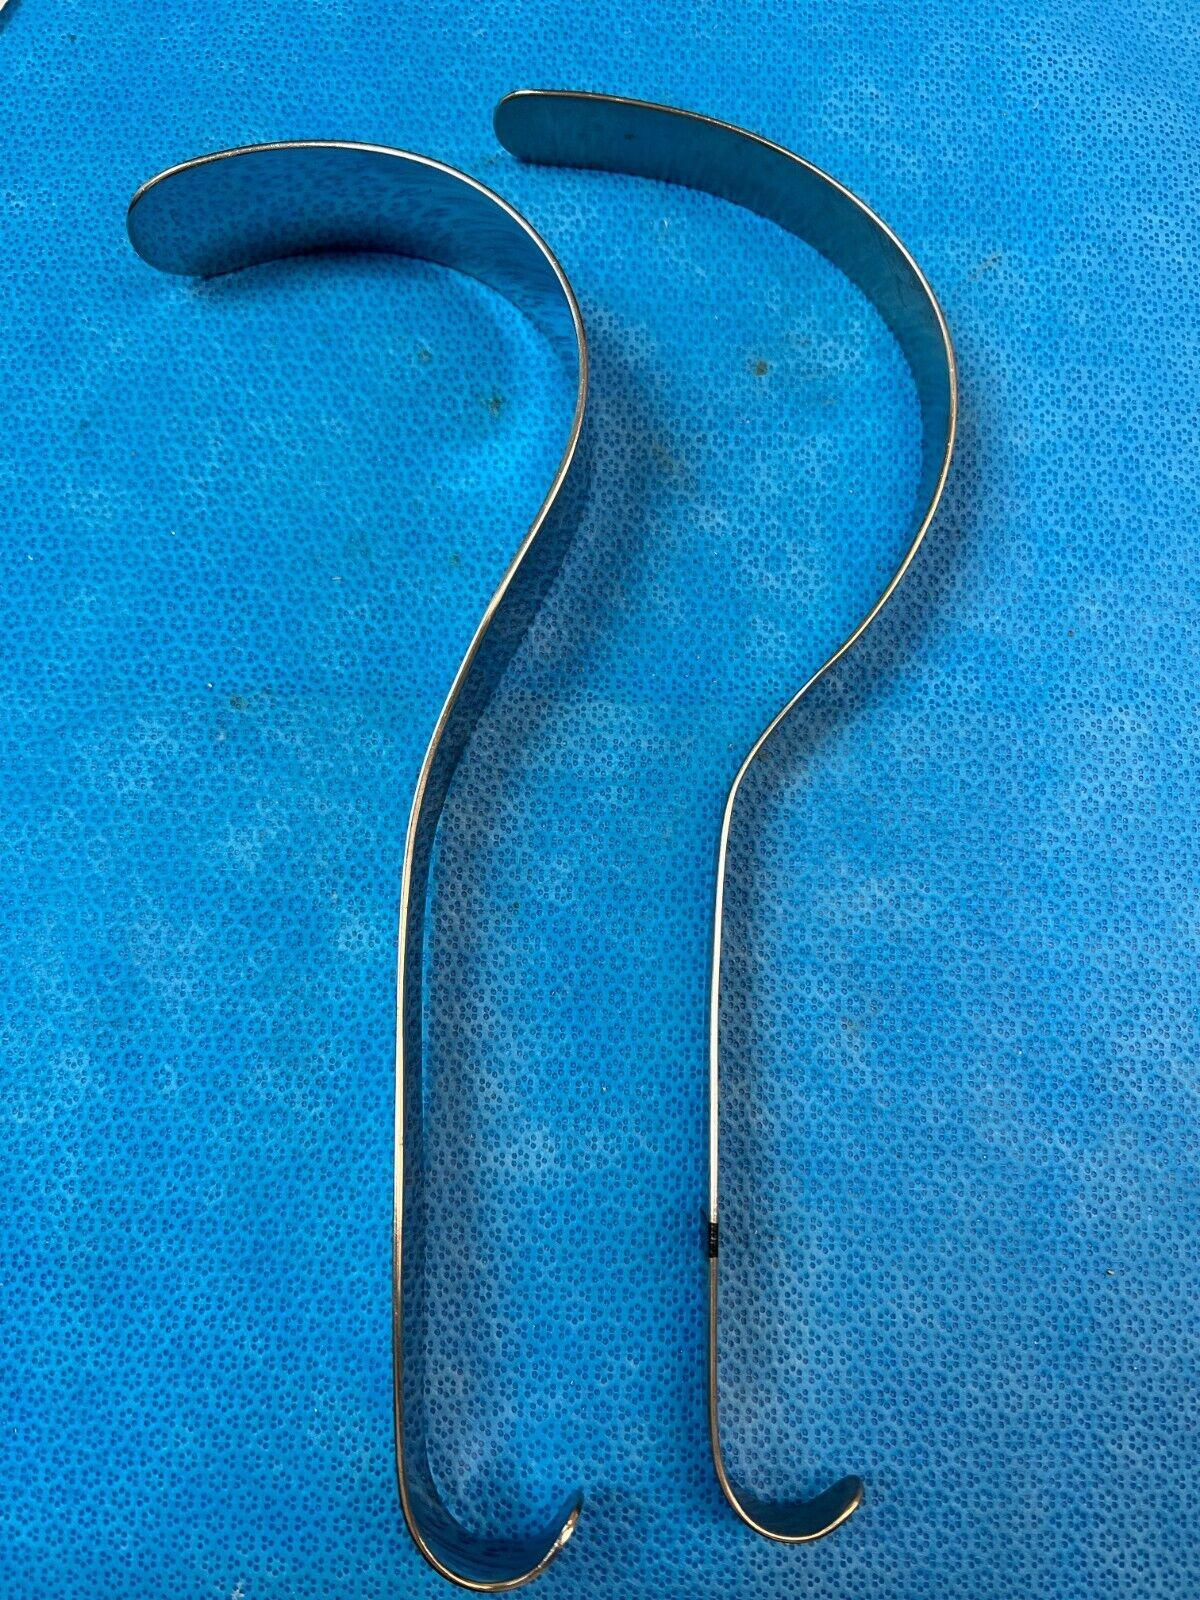Deaver Retractor: (112, 112, 610, 1595), (483, 76, 976, 1537)
